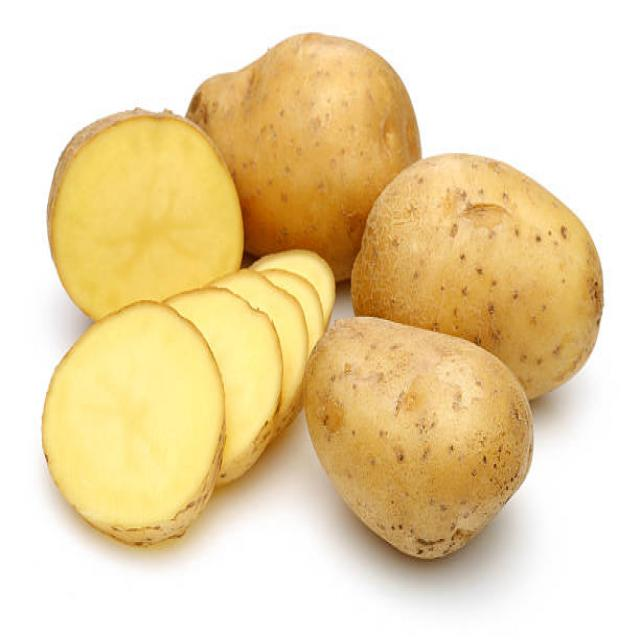Potato: (38, 299, 282, 545), (309, 320, 516, 564), (379, 148, 611, 354), (44, 106, 242, 295), (233, 32, 423, 188)
